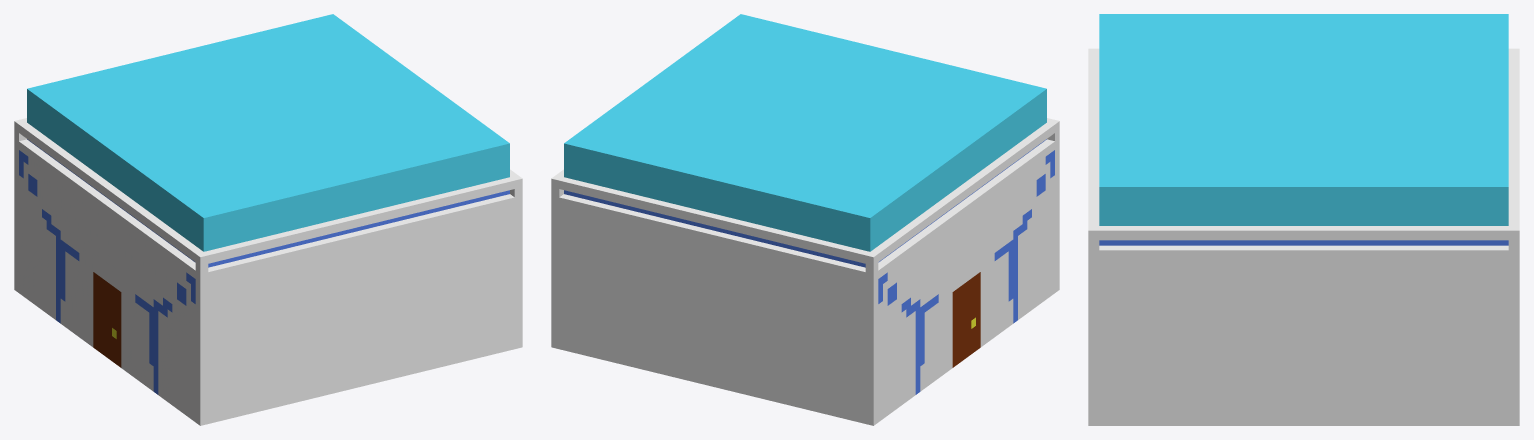
File: building.obj
3 views of the same model, side by side, from view 1: azimuth 30°, elevation 25°; view 2: azimuth 150°, elevation 25°; view 3: azimuth 270°, elevation 25° (orthographic). The views are drawn at different scales.
Parts seen in each view (by area): view 1: building; view 2: building; view 3: building.
Part boxes in pixels (x1,y1,x2,y2): building: [14, 14, 522, 425]; building: [551, 14, 1059, 425]; building: [1088, 14, 1519, 425].
Bounding box in the file's own units: 40 × 24 × 40.
Materials: 1 (1 with a texture image).
